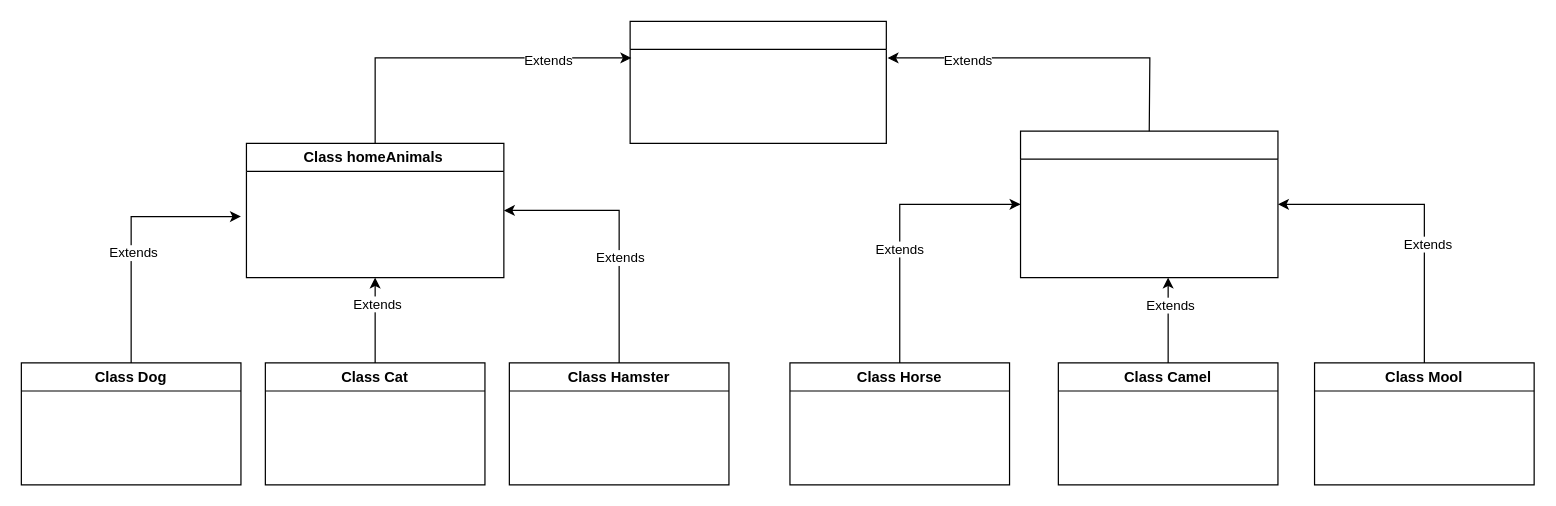
Some shapes in this 1556 by 506 pixel diagram are drawn without their labels. Each missing label, with the centre of its shape:
"Class Animals" goes at (x=757, y=81).
"Class packAnimals" goes at (x=1148, y=204).
